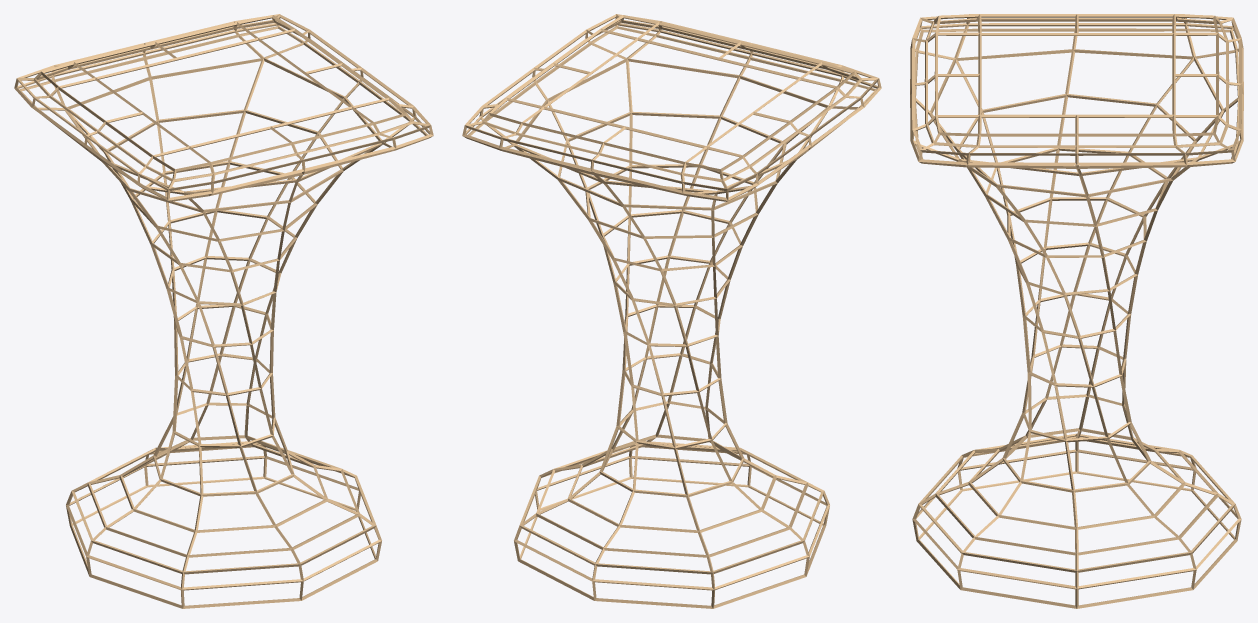
Rendered from AR Pedestal wireframe (2).fbx.
3 views of the same model, side by side, from view 1: azimuth 30°, elevation 25°; view 2: azimuth 150°, elevation 25°; view 3: azimuth 270°, elevation 25° (orthographic). The views are drawn at different scales.
Parts seen in each view (by area): view 1: Cube; view 2: Cube; view 3: Cube.
Boxes of the visible parts, x1,y1,x2,y2 form: Cube: [14, 14, 433, 608]; Cube: [462, 14, 881, 608]; Cube: [910, 14, 1243, 608].
Size of the model in its own units: 66.26 by 102 by 66.26.
